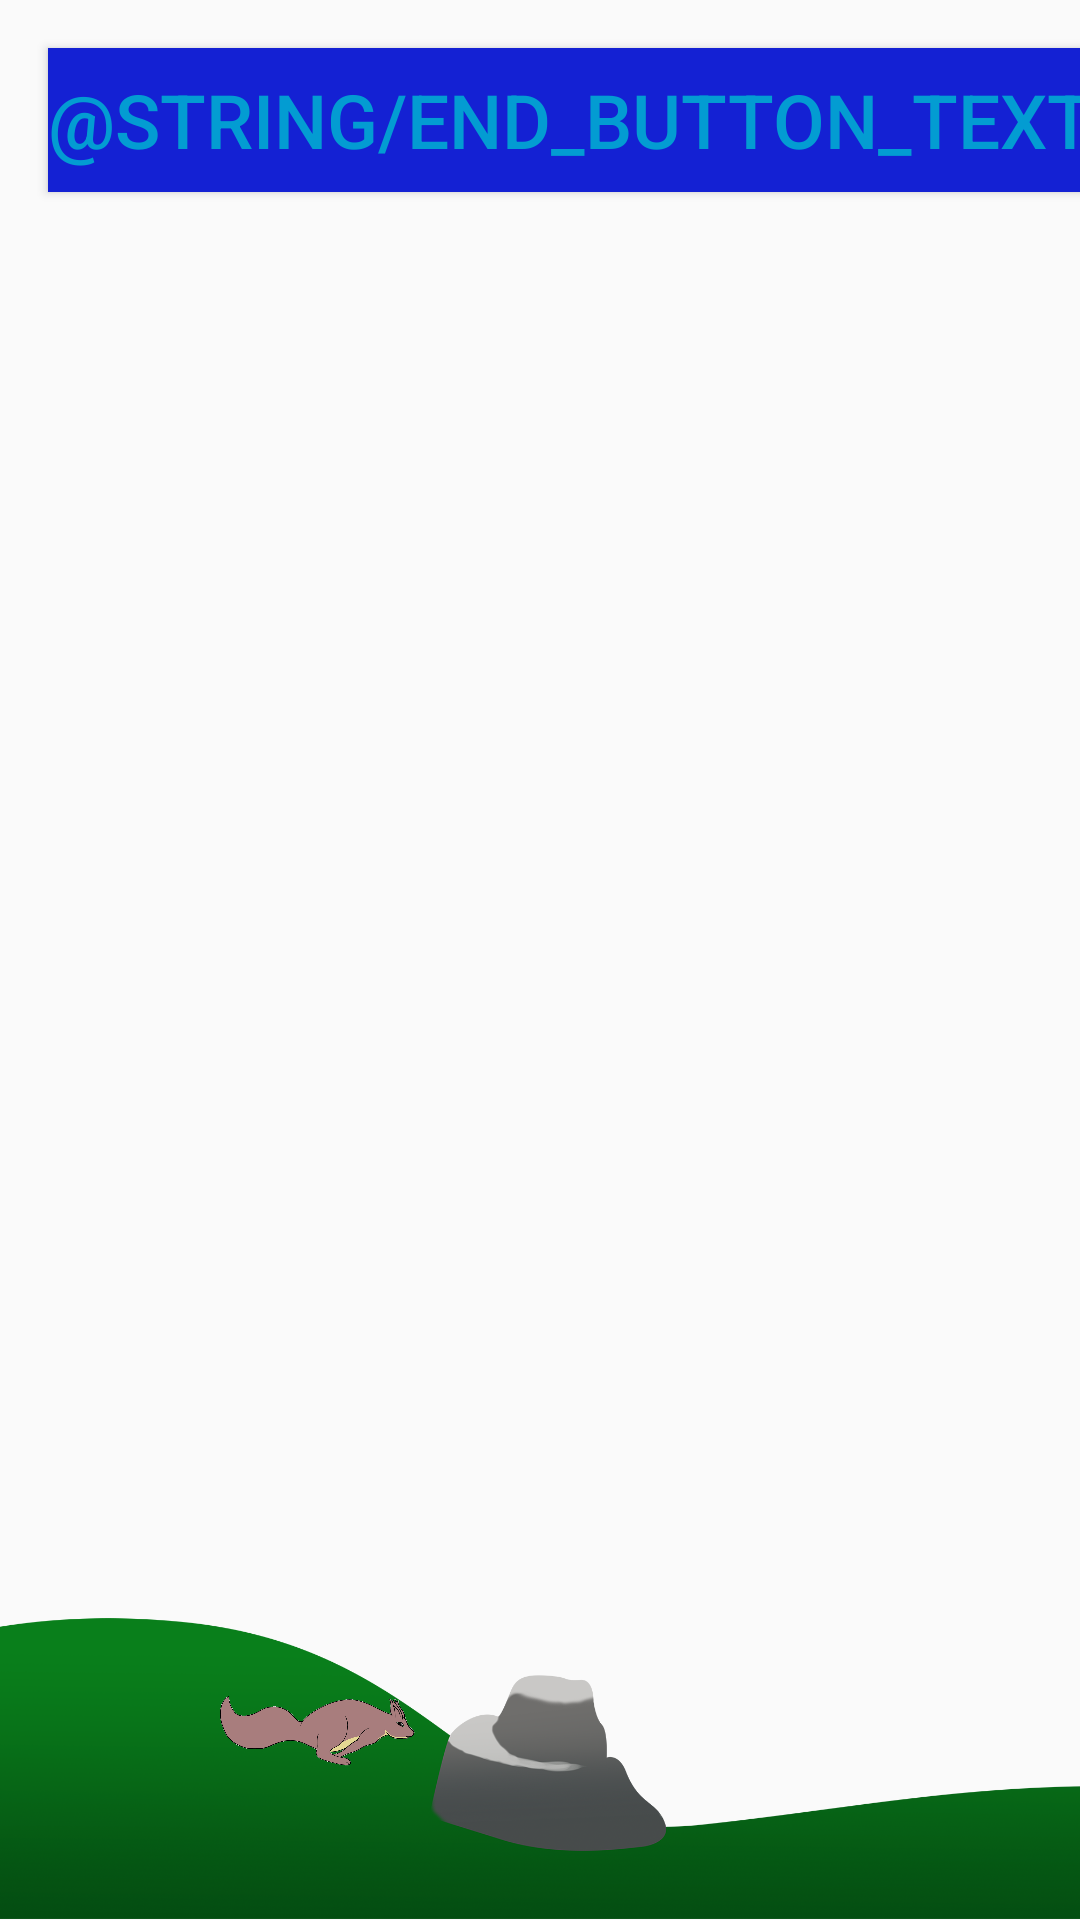

Screen size 1080 × 1920. Icon name, then its center in pixels as (x=x, y=y):
animated squirrel: (x=315, y=1725)
